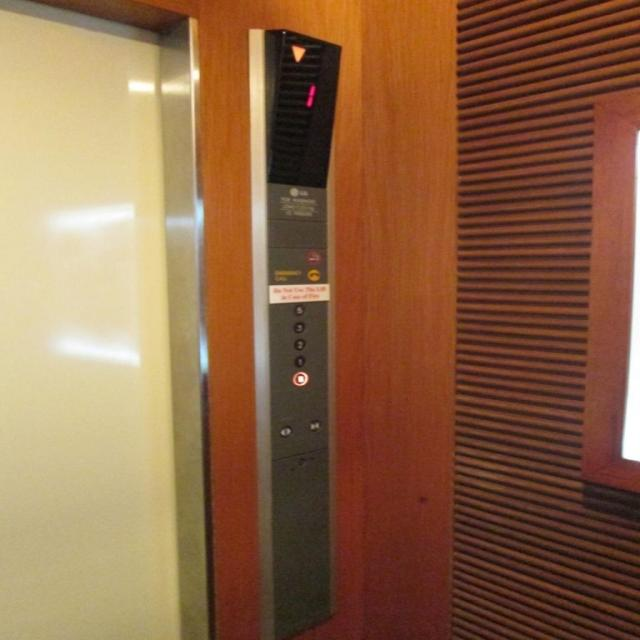1: (292, 354, 306, 368)
2: (293, 338, 305, 352)
3: (292, 320, 306, 332)
5: (291, 304, 305, 315)
blur: (303, 248, 321, 264), (291, 371, 309, 387)
call: (306, 267, 320, 281)
close: (307, 419, 321, 432)
led: (263, 28, 342, 189)
open: (278, 425, 292, 437)
